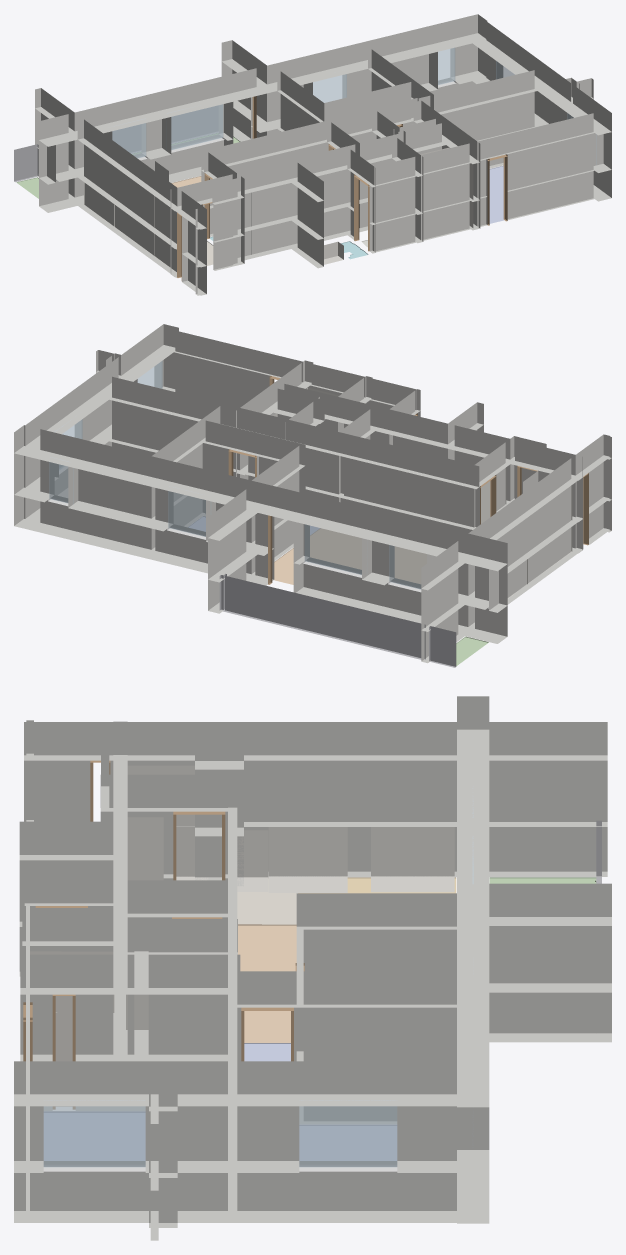
3 renders of one model, top to bottom at view 1: azimuth 30°, elevation 25°; view 2: azimuth 150°, elevation 25°; view 3: azimuth 270°, elevation 25°, orthographic. The views are drawn at different scales.
Parts seen in each view (by area): view 1: walls, railings, window_5, window_0, floor_10_Bed_Room, window_1, window_2, door_13, door_14, furniture_9_toilet; view 2: walls, railings, floor_2_Living_Room, window_5, window_1, window_0, window_2, floor_12_Outdoor; view 3: walls, window_6, window_4, furniture_4_appliance, furniture_5_appliance, floor_10_Bed_Room, floor_2_Living_Room, floor_6_Bed_Room, furniture_2_closet, furniture_1_closet, floor_3_Entry, furniture_10_sink (+5 smaller).
Boxes of the visible parts, x1=… form: walls: x1=35, y1=14, x2=611, y2=295; railings: x1=14, y1=105, x2=218, y2=182; window_5: x1=166, y1=104, x2=223, y2=150; window_0: x1=112, y1=118, x2=146, y2=158; floor_10_Bed_Room: x1=489, y1=165, x2=503, y2=223; window_1: x1=313, y1=74, x2=346, y2=102; window_2: x1=438, y1=47, x2=455, y2=84; door_13: x1=487, y1=154, x2=507, y2=225; door_14: x1=354, y1=174, x2=369, y2=251; furniture_9_toilet: x1=324, y1=241, x2=343, y2=264; walls: x1=14, y1=324, x2=611, y2=663; railings: x1=219, y1=574, x2=456, y2=667; floor_2_Living_Room: x1=274, y1=528, x2=426, y2=584; window_5: x1=304, y1=524, x2=361, y2=574; window_1: x1=168, y1=486, x2=205, y2=536; window_0: x1=389, y1=545, x2=426, y2=589; window_2: x1=49, y1=457, x2=73, y2=503; floor_12_Outdoor: x1=456, y1=636, x2=488, y2=665; walls: x1=14, y1=696, x2=611, y2=1240; window_6: x1=43, y1=1100, x2=145, y2=1167; window_4: x1=299, y1=1100, x2=397, y2=1167; furniture_4_appliance: x1=371, y1=827, x2=454, y2=892; furniture_5_appliance: x1=268, y1=827, x2=347, y2=892; floor_10_Bed_Room: x1=44, y1=1111, x2=145, y2=1160; floor_2_Living_Room: x1=238, y1=924, x2=296, y2=1042; floor_6_Bed_Room: x1=299, y1=1125, x2=396, y2=1160; furniture_2_closet: x1=127, y1=817, x2=163, y2=880; furniture_1_closet: x1=127, y1=765, x2=208, y2=880; floor_3_Entry: x1=237, y1=877, x2=296, y2=924; furniture_10_sink: x1=237, y1=830, x2=268, y2=891.
Bounding box in the file's own units: 15.24 × 2.72 × 9.77.
